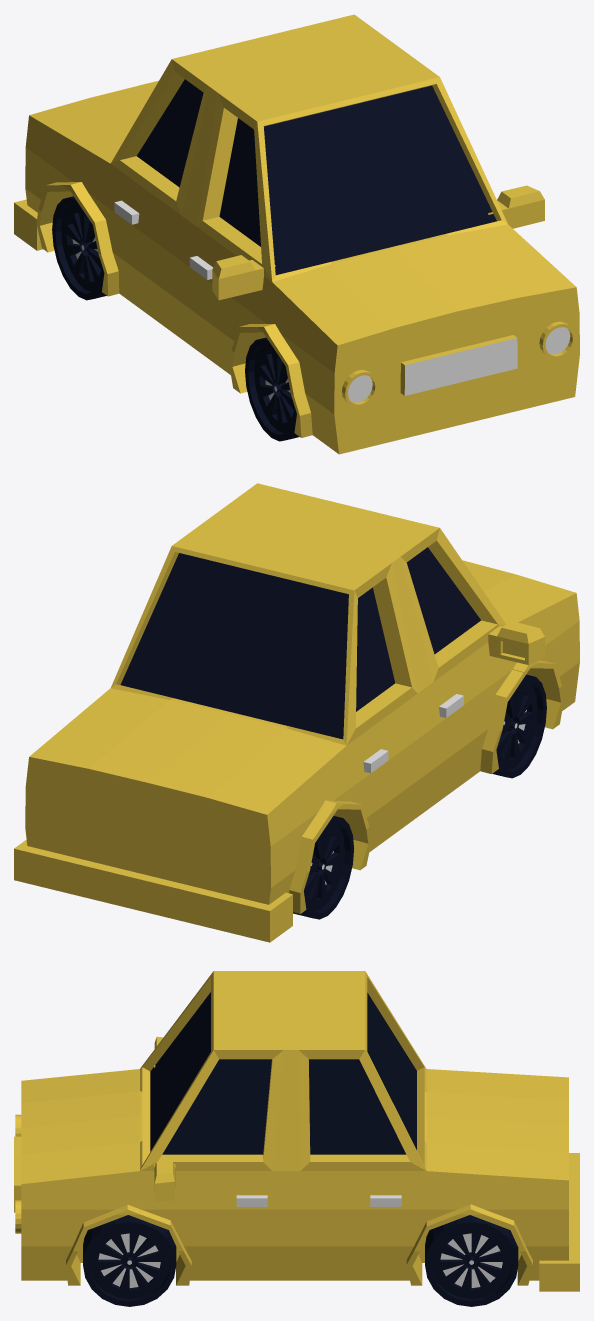
File: poly_car.glb
The picture shows the model from 3 angles, top to bottom: view 1: azimuth 30°, elevation 25°; view 2: azimuth 150°, elevation 25°; view 3: azimuth 270°, elevation 25°; orthographic projection. The views are drawn at different scales.
Visible parts, largest first — view 1: Car; view 2: Car; view 3: Car.
Part boxes in pixels (<box>): Car: <box>14,14,579,454</box>; Car: <box>14,483,579,942</box>; Car: <box>14,971,579,1306</box>.
Size of the model in its own units: 2.76 by 2.21 by 4.69.
